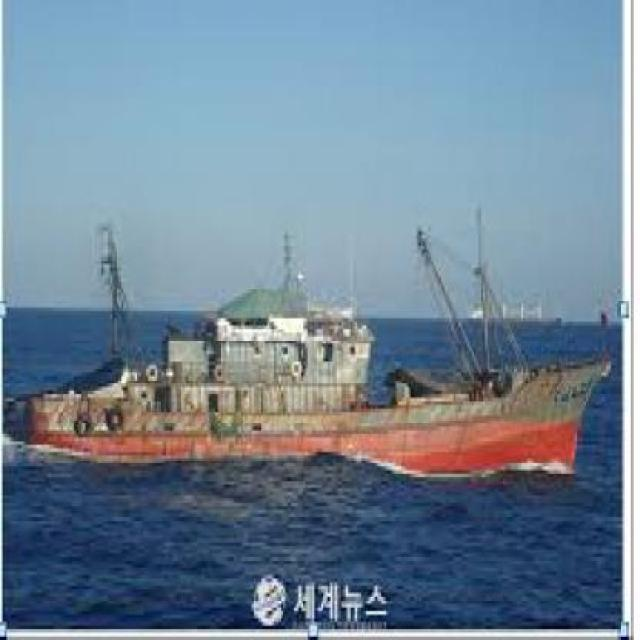fish-b: (3, 214, 626, 511)
